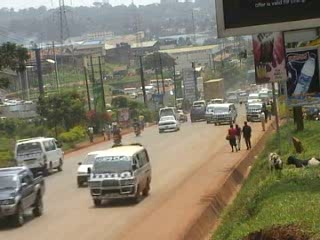Car: (76, 149, 108, 187), (157, 113, 180, 133), (175, 107, 188, 123)
Motorcycle: (108, 120, 124, 147), (130, 116, 142, 137)
